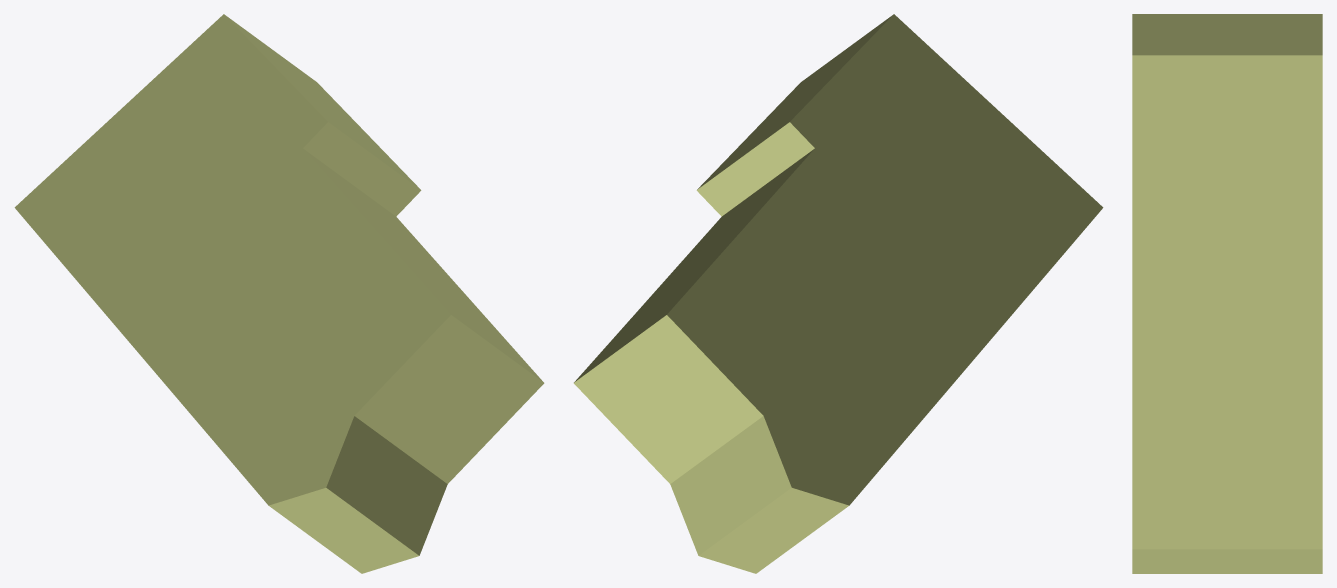
The picture shows the model from 3 angles, left to right: view 1: azimuth 30°, elevation 25°; view 2: azimuth 150°, elevation 25°; view 3: azimuth 270°, elevation 25°; orthographic projection. The views are drawn at different scales.
Visible parts, largest first — view 1: 0_0_1_1_2_2_1_0_1_3; view 2: 0_0_1_1_2_2_1_0_1_3; view 3: 0_0_1_1_2_2_1_0_1_3.
Part boxes in pixels (x1,y1,x2,y2): 0_0_1_1_2_2_1_0_1_3: [14, 14, 544, 573]; 0_0_1_1_2_2_1_0_1_3: [573, 14, 1103, 573]; 0_0_1_1_2_2_1_0_1_3: [1132, 14, 1322, 573].
Bounding box in the file's own units: 16.2 × 17.82 × 6.
